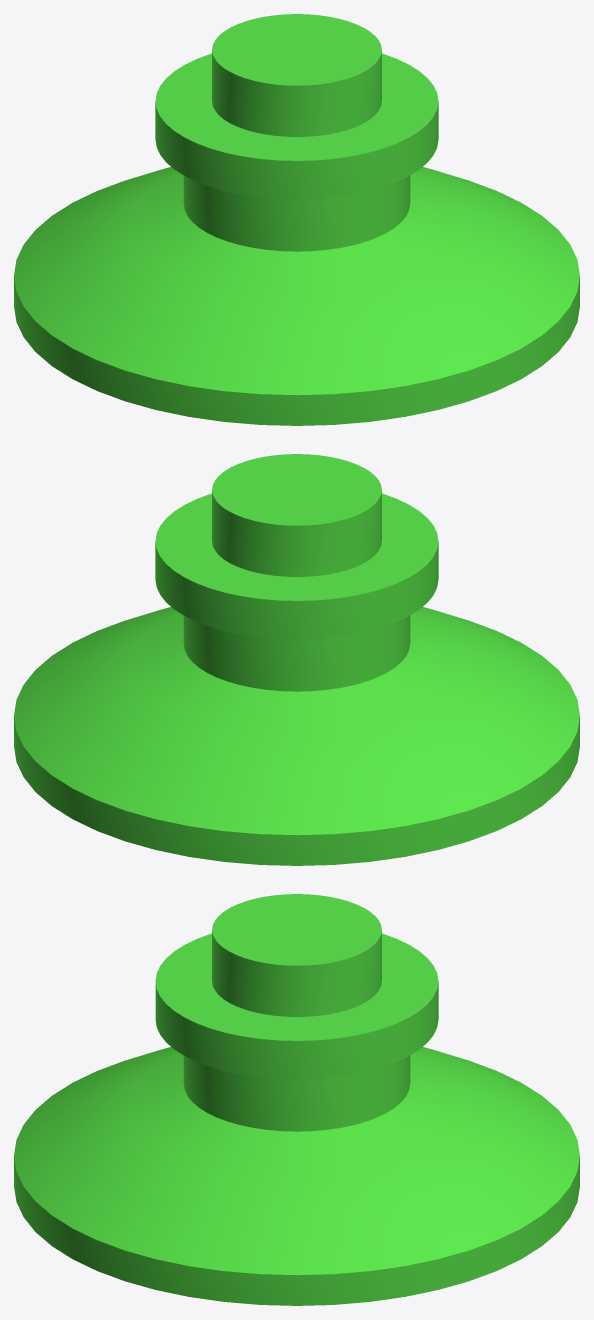
Rendered from LegoUfoWeapon.glb.
3 views of the same model, one above another, from view 1: azimuth 30°, elevation 25°; view 2: azimuth 150°, elevation 25°; view 3: azimuth 270°, elevation 25° (orthographic).
Visible parts, largest first — view 1: LegoUfoWeapon; view 2: LegoUfoWeapon; view 3: LegoUfoWeapon.
Part boxes in pixels (x1=…): LegoUfoWeapon: x1=14, y1=14, x2=579, y2=425; LegoUfoWeapon: x1=14, y1=454, x2=579, y2=865; LegoUfoWeapon: x1=14, y1=894, x2=579, y2=1305.
Bounding box in the file's own units: 40 × 20 × 40.
